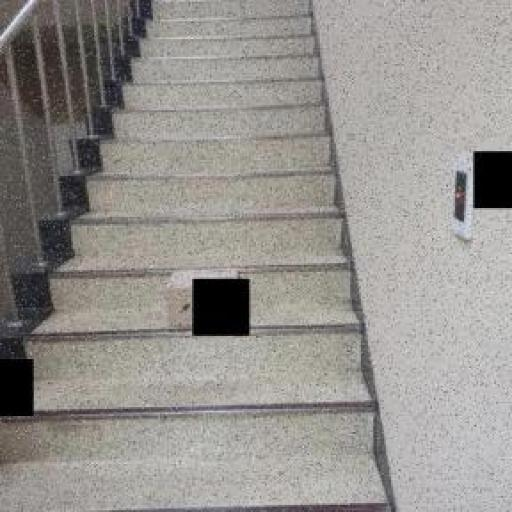box: (150, 255, 254, 342)
